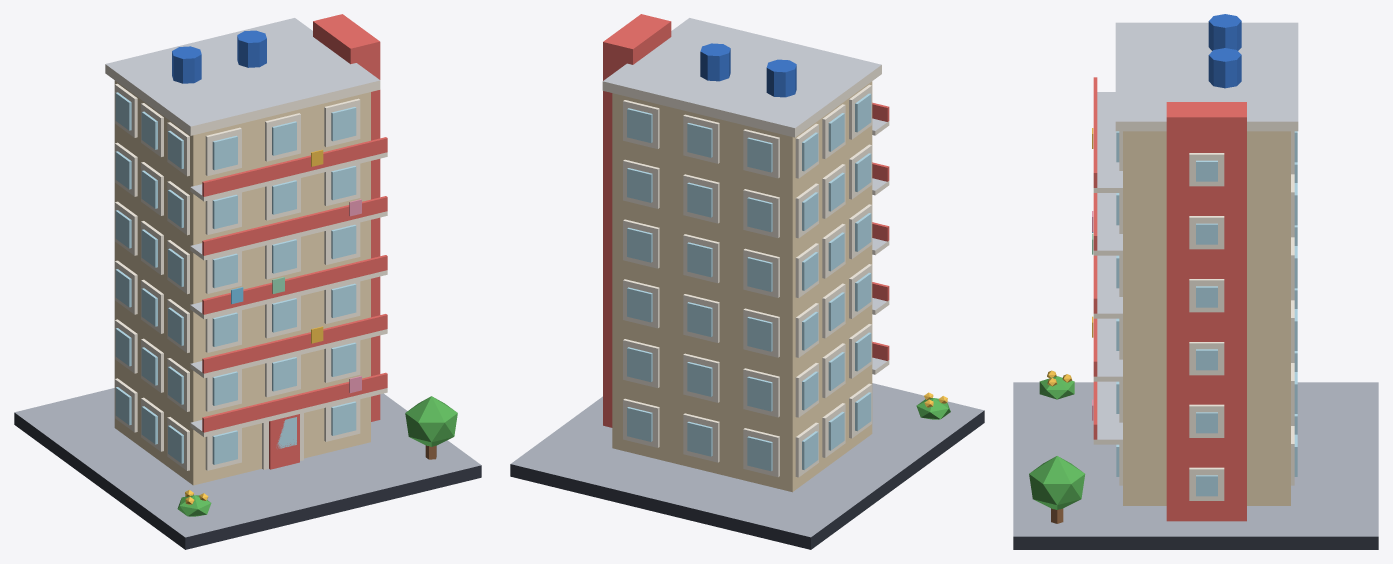
File: house_flats.glb
3 renders of one model, left to right at view 1: azimuth 30°, elevation 25°; view 2: azimuth 150°, elevation 25°; view 3: azimuth 270°, elevation 25°, orthographic. The views are drawn at different scales.
Parts seen in each view (by area): view 1: house_flats; view 2: house_flats; view 3: house_flats.
Part boxes in pixels (left/top/right/bottom): house_flats: left=14, top=14, right=481, bottom=549; house_flats: left=510, top=14, right=984, bottom=549; house_flats: left=1013, top=14, right=1378, bottom=549.
Size of the model in its own units: 1 by 1.29 by 1.
